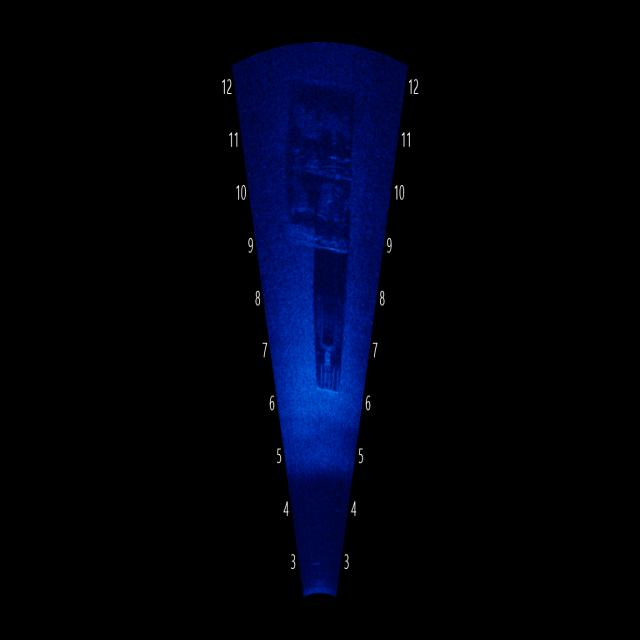square: (271, 84, 364, 269), (300, 280, 356, 430)
